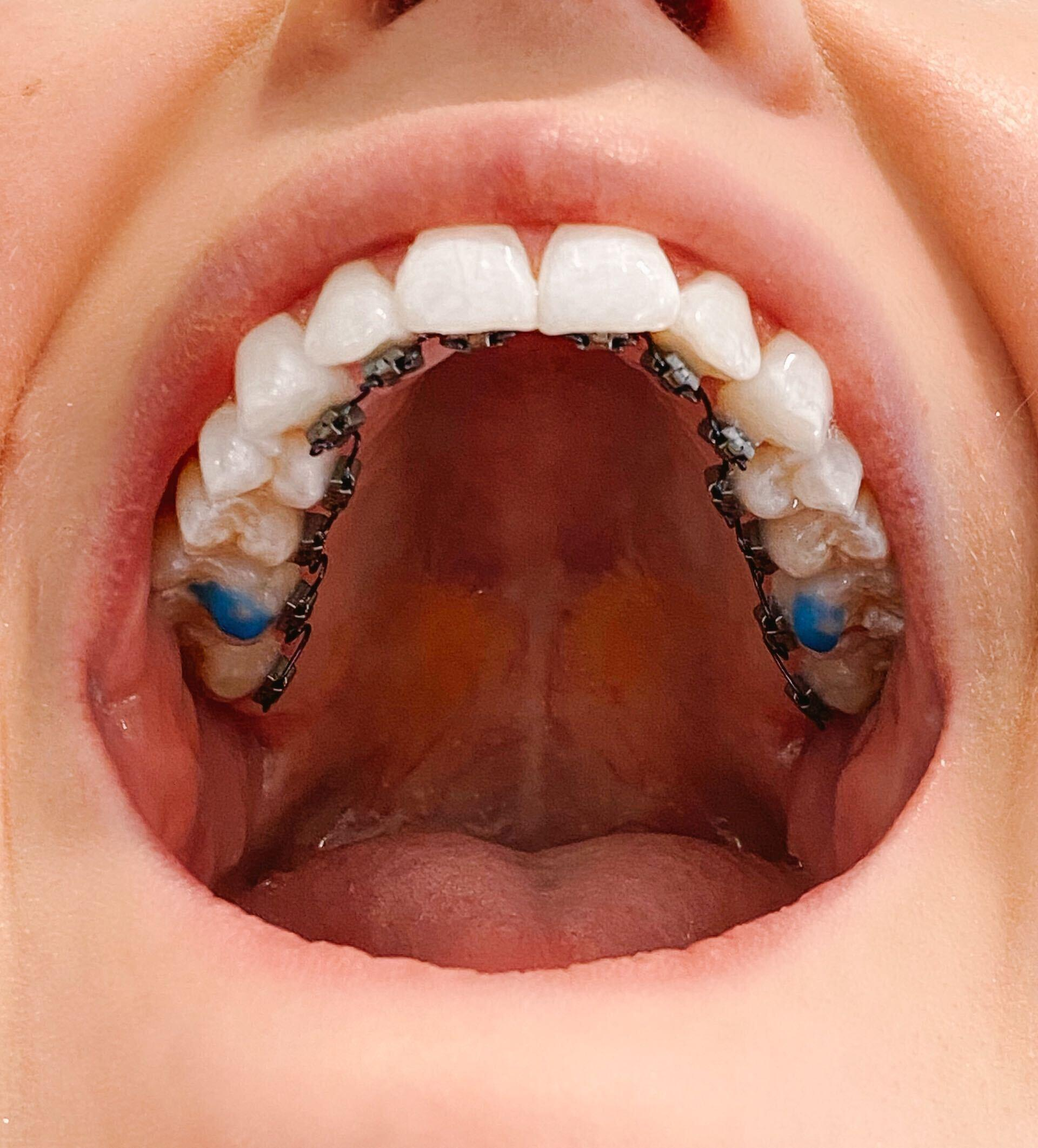Braces: (251, 316, 841, 738)
